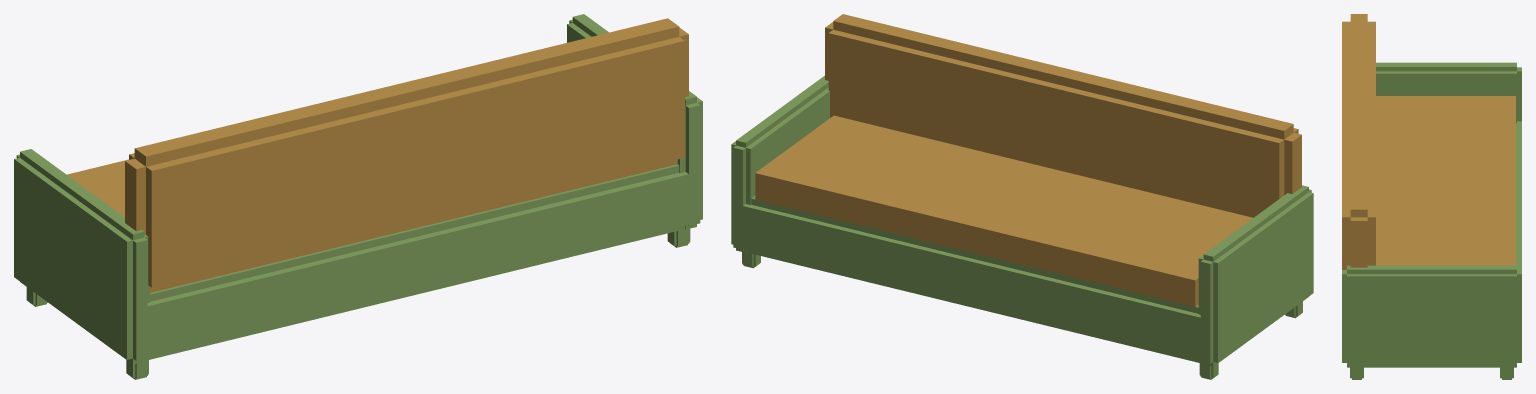
File: cactus_sofa_v0.glb
3 renders of one model, left to right at view 1: azimuth 30°, elevation 25°; view 2: azimuth 150°, elevation 25°; view 3: azimuth 270°, elevation 25°, orthographic. The views are drawn at different scales.
Visible parts, largest first — view 1: cactus_sofa_v0; view 2: cactus_sofa_v0; view 3: cactus_sofa_v0.
Part boxes in pixels (x1,y1,x2,y2): cactus_sofa_v0: (14,14,702,379); cactus_sofa_v0: (731,14,1313,379); cactus_sofa_v0: (1342,14,1521,379).
Size of the model in its own units: 2.5 by 0.92 by 0.9.
